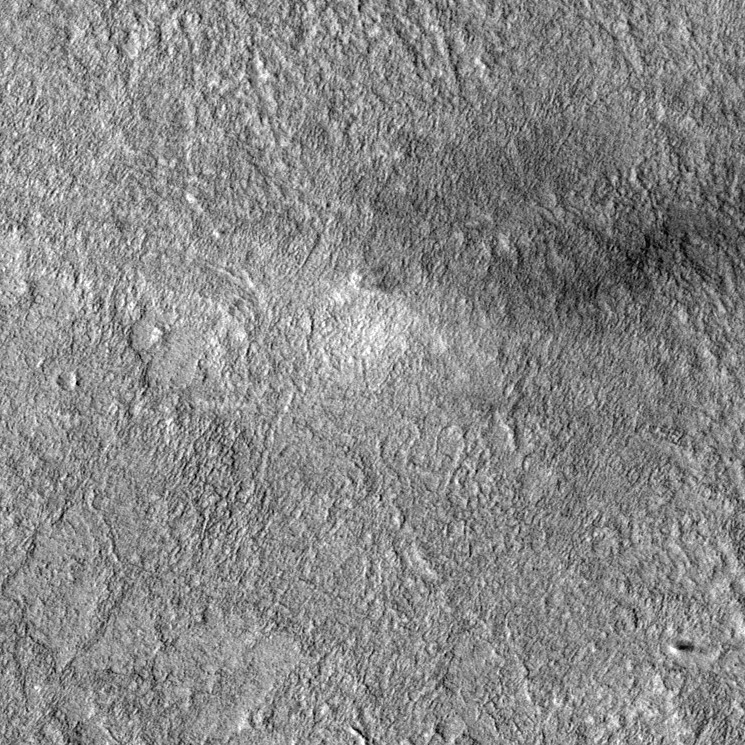dust_devil: (666, 639, 697, 655)
